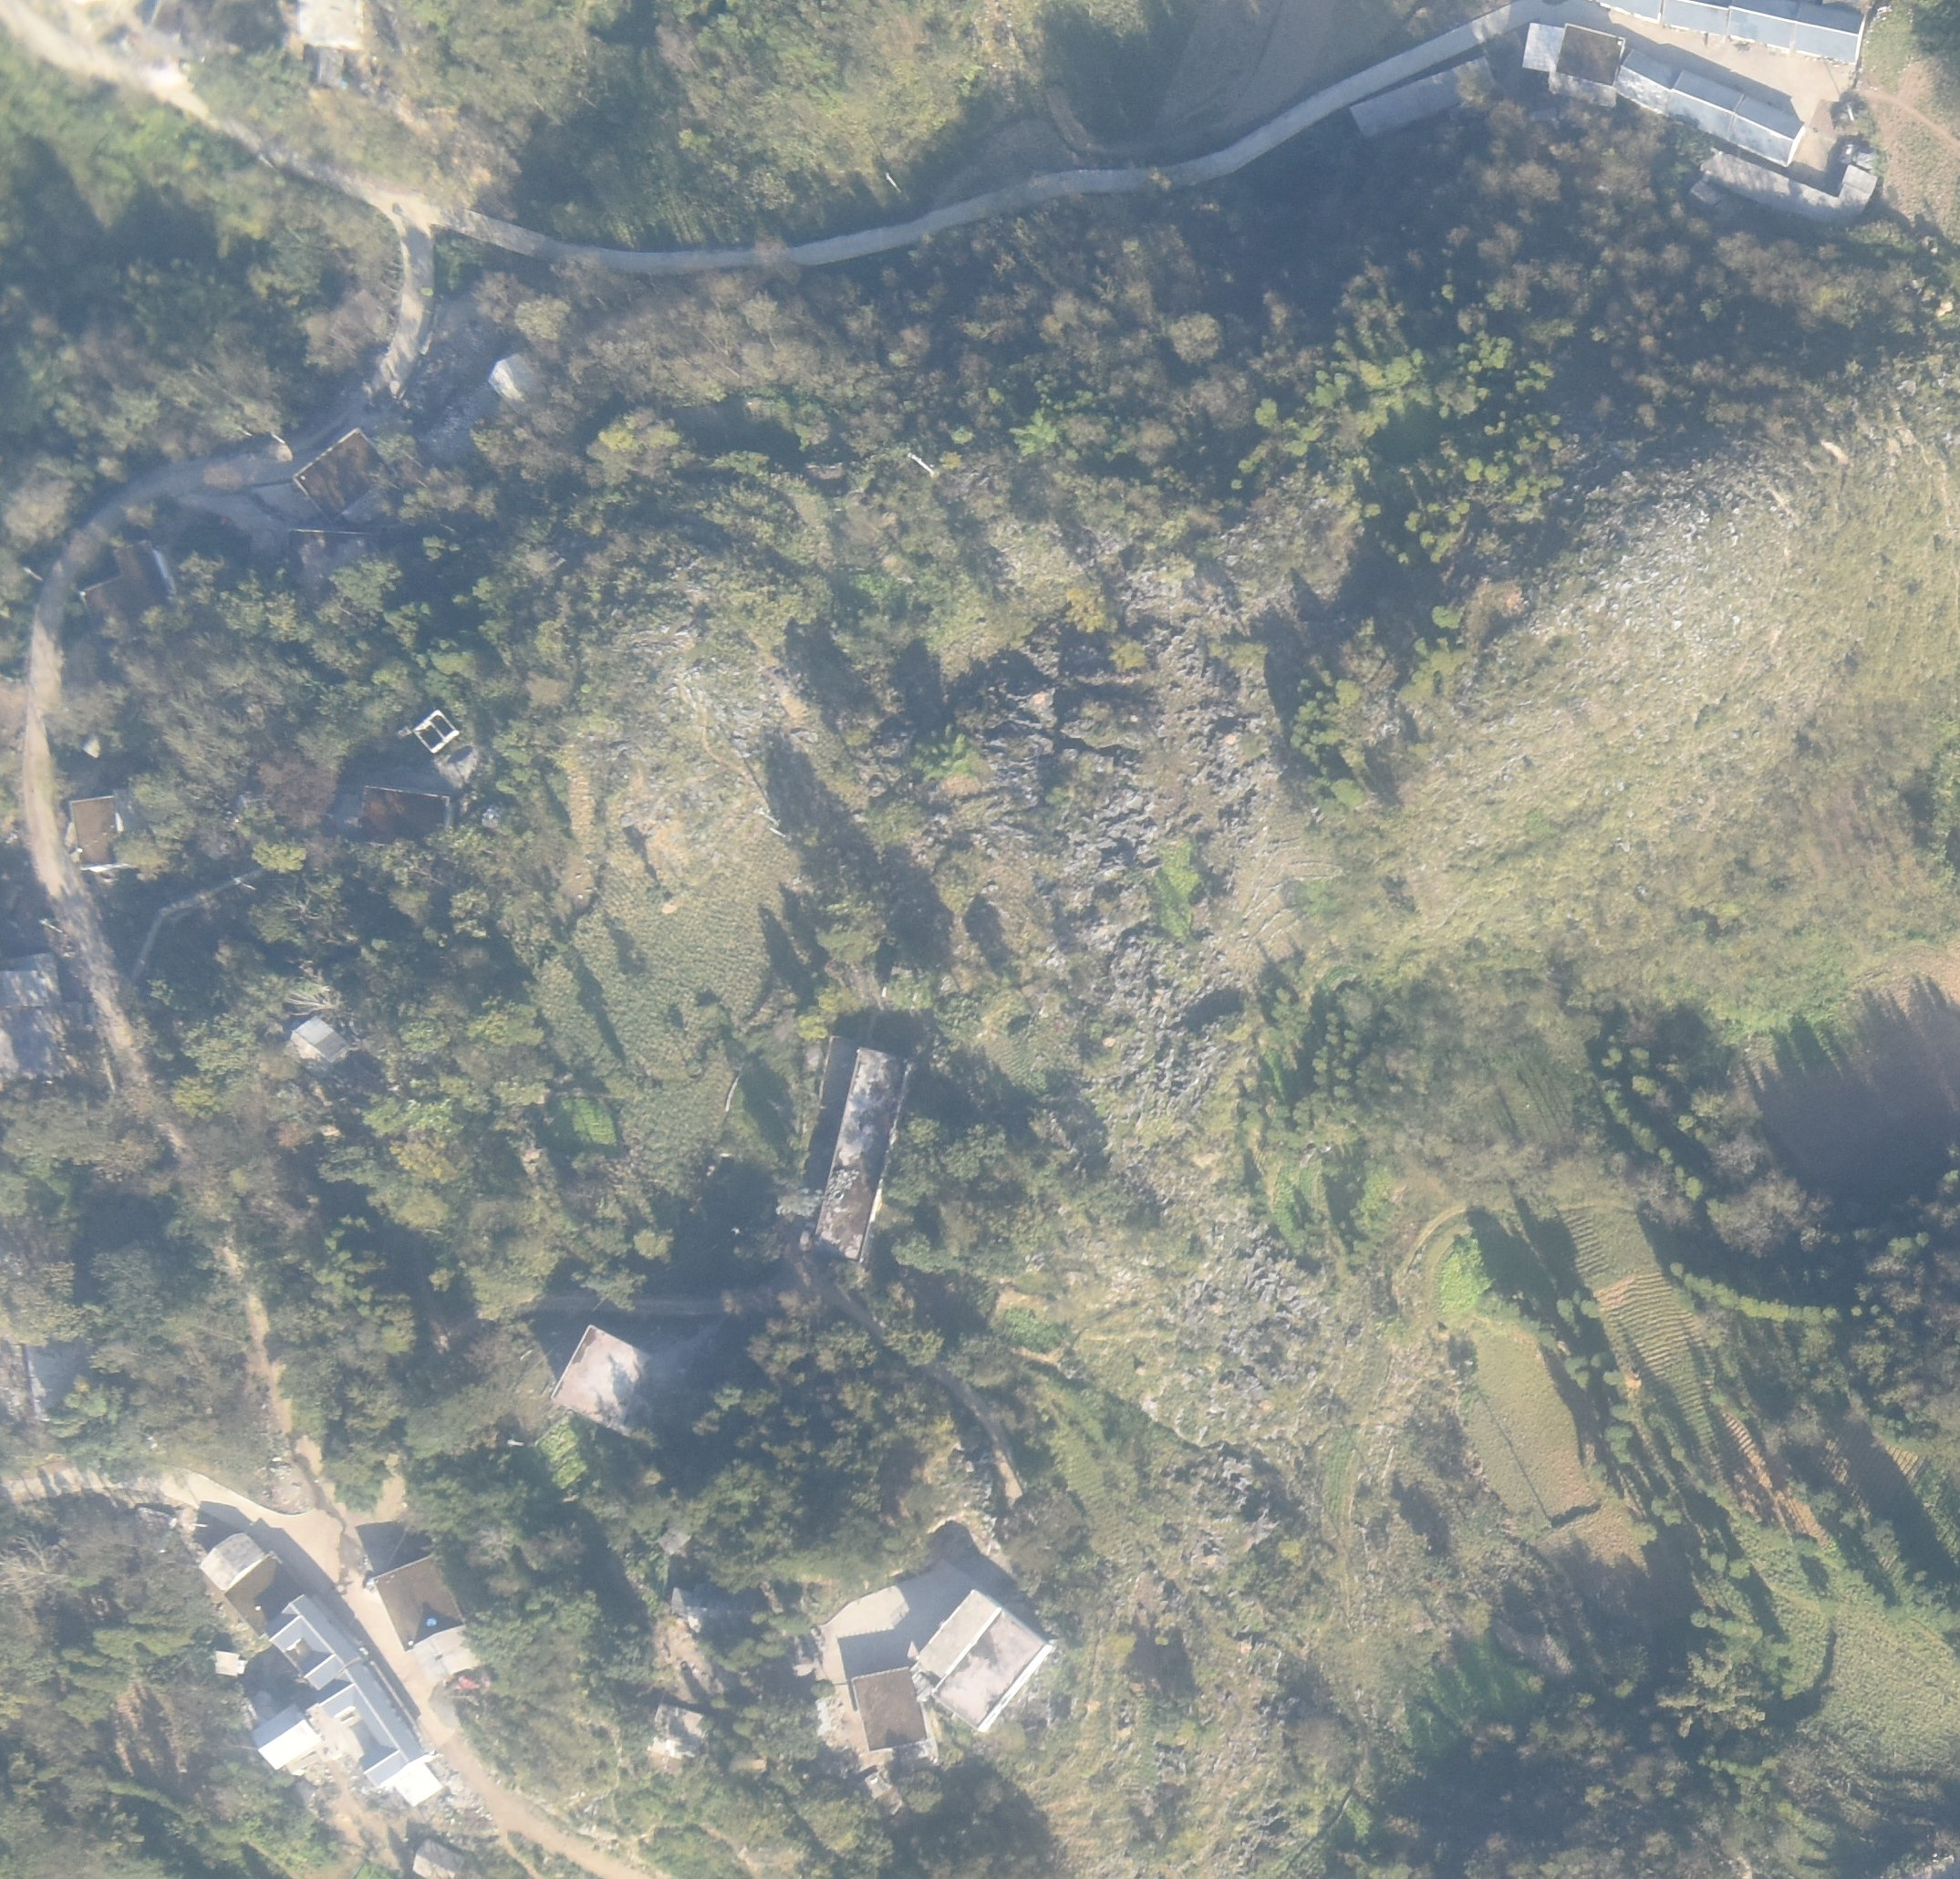building: (271, 1589, 441, 1809), (548, 1321, 749, 1457), (810, 1041, 910, 1265), (294, 429, 437, 537), (1599, 2, 1860, 61), (927, 1599, 1039, 1736), (1671, 65, 1806, 173), (1692, 147, 1878, 224), (374, 1554, 481, 1685), (1347, 58, 1489, 140), (79, 539, 178, 639), (3, 957, 70, 1081), (1526, 23, 1622, 101), (287, 530, 367, 623), (852, 1660, 931, 1753), (26, 1333, 98, 1426), (227, 1550, 306, 1631), (352, 786, 451, 845), (408, 709, 479, 786), (299, 2, 362, 87), (68, 794, 135, 871), (245, 1704, 318, 1771), (199, 1529, 264, 1590), (485, 350, 549, 411), (294, 1015, 350, 1078), (1617, 51, 1669, 115), (649, 1706, 716, 1755), (147, 5, 231, 38), (730, 1746, 768, 1781), (210, 1652, 252, 1678)
